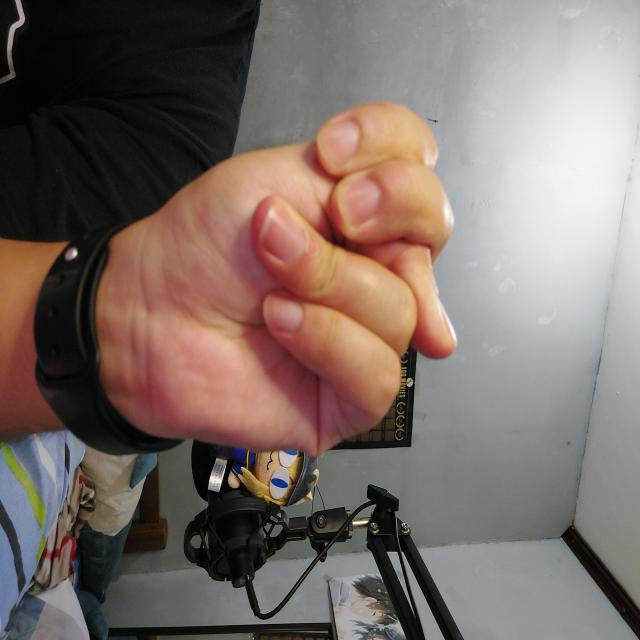N: (112, 62, 468, 494)
